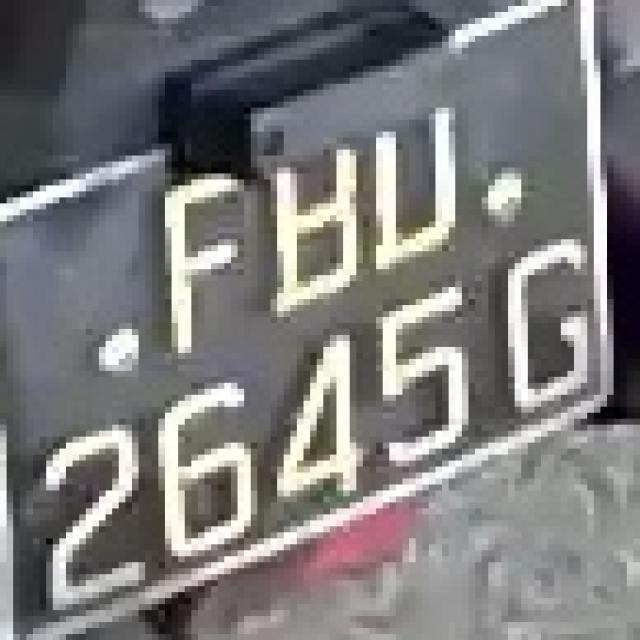2: (20, 413, 145, 598)
4: (244, 329, 396, 520)
5: (363, 275, 482, 467)
6: (132, 365, 257, 568)
B: (251, 114, 363, 311)
D: (363, 66, 475, 275)
F: (145, 155, 244, 353)
G: (488, 233, 607, 425)
